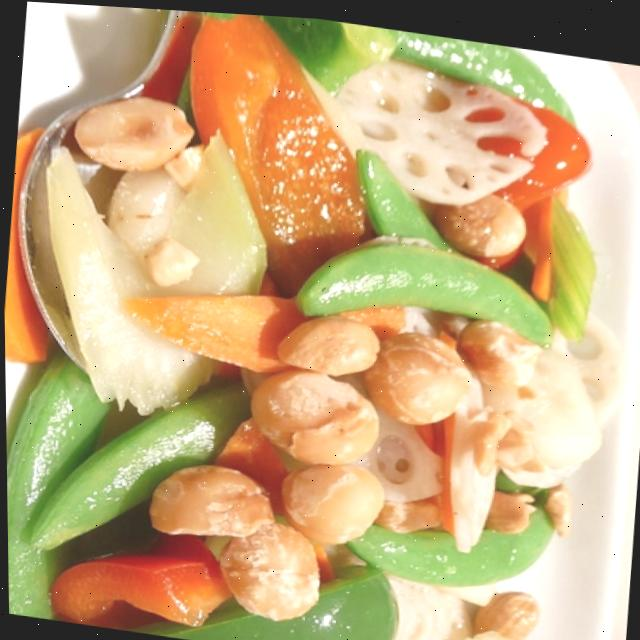蔬菜料理: (0, 0, 630, 640)
